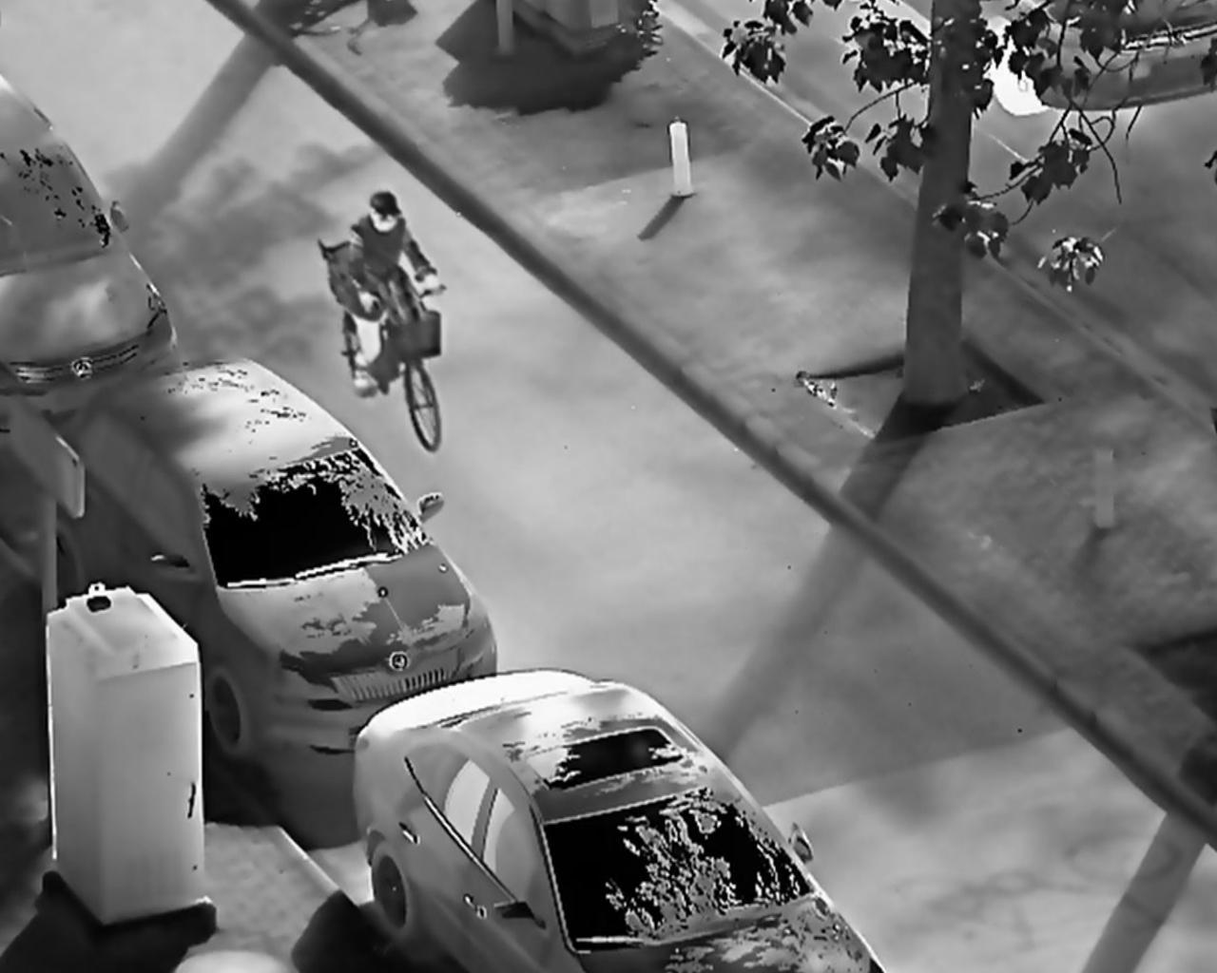person: (342, 189, 444, 398)
